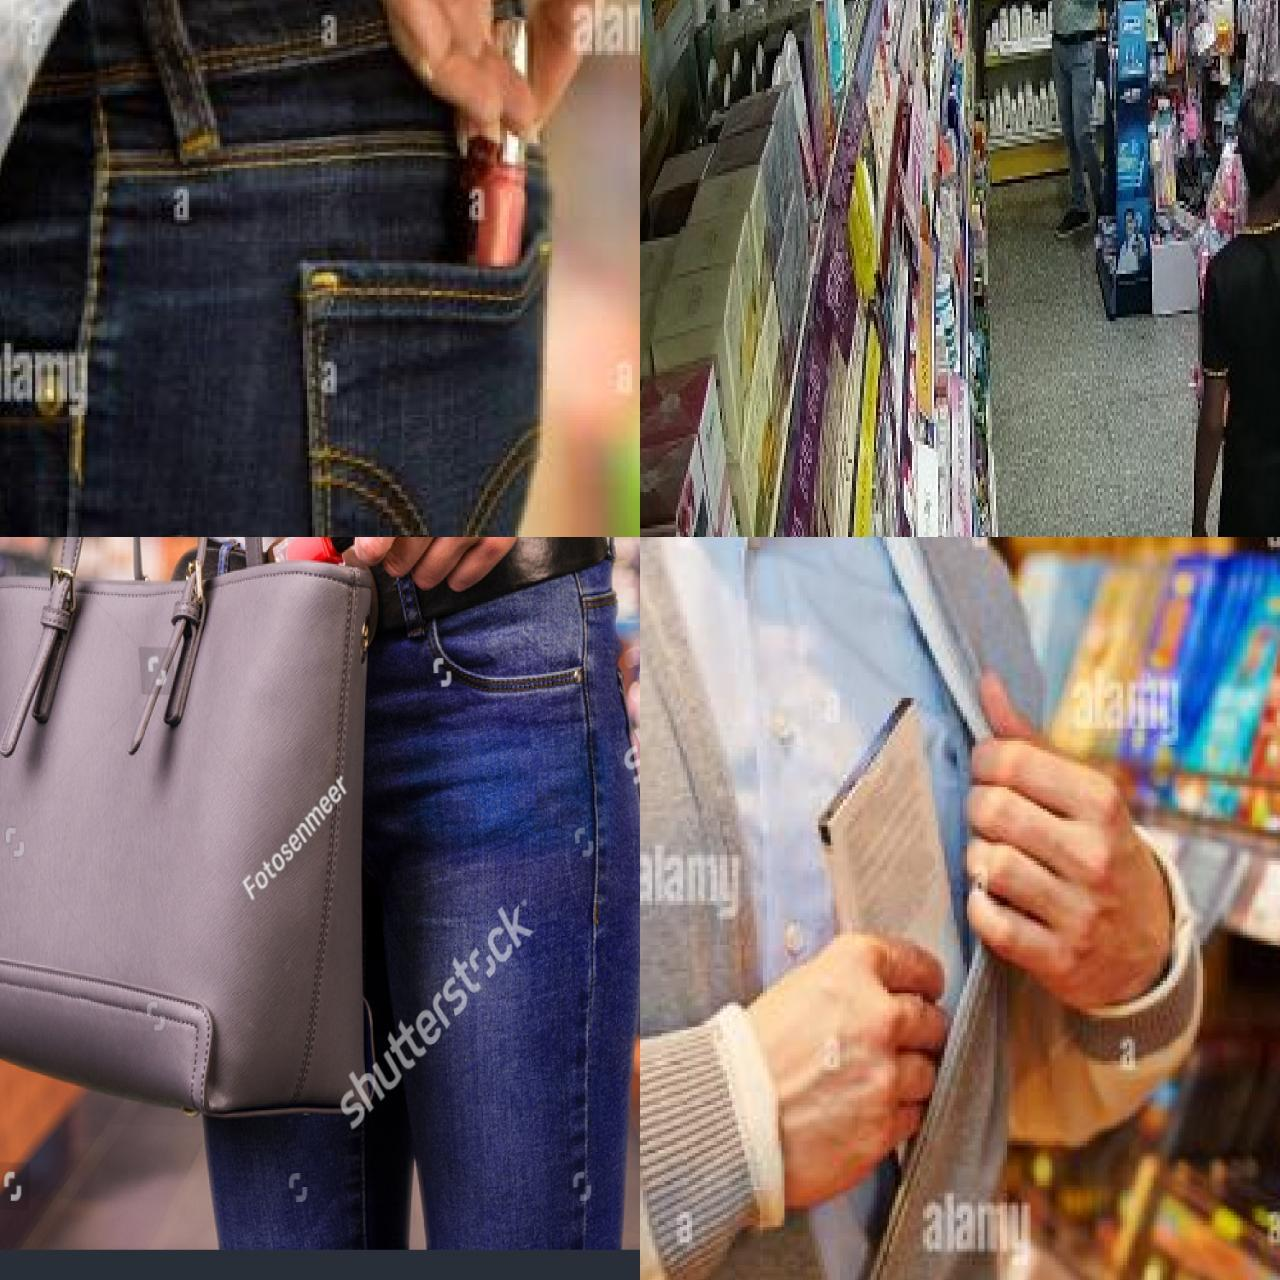Shoplifting: (0, 537, 640, 1246), (655, 600, 1280, 1280), (246, 0, 640, 537)
normal: (1191, 50, 1280, 537)
